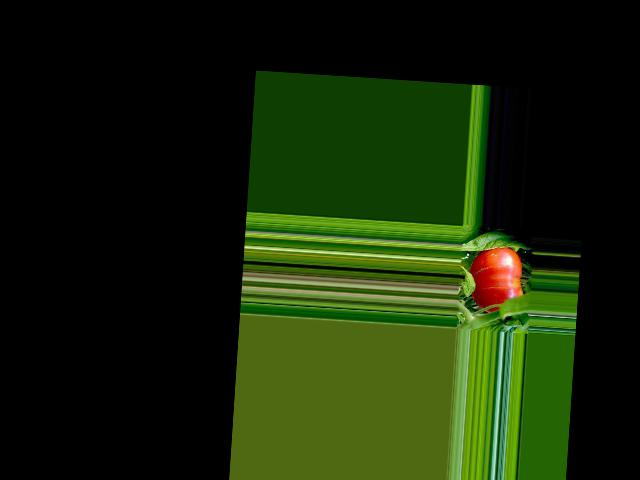tomato: (467, 244, 526, 315)
